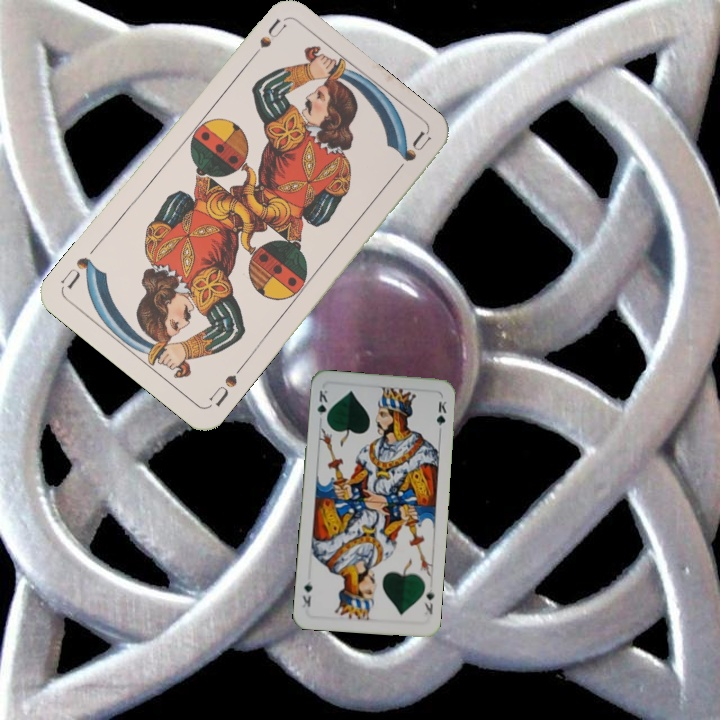GK: (313, 386, 331, 425), (419, 585, 437, 617)
SU: (243, 14, 289, 67), (204, 359, 248, 409)
